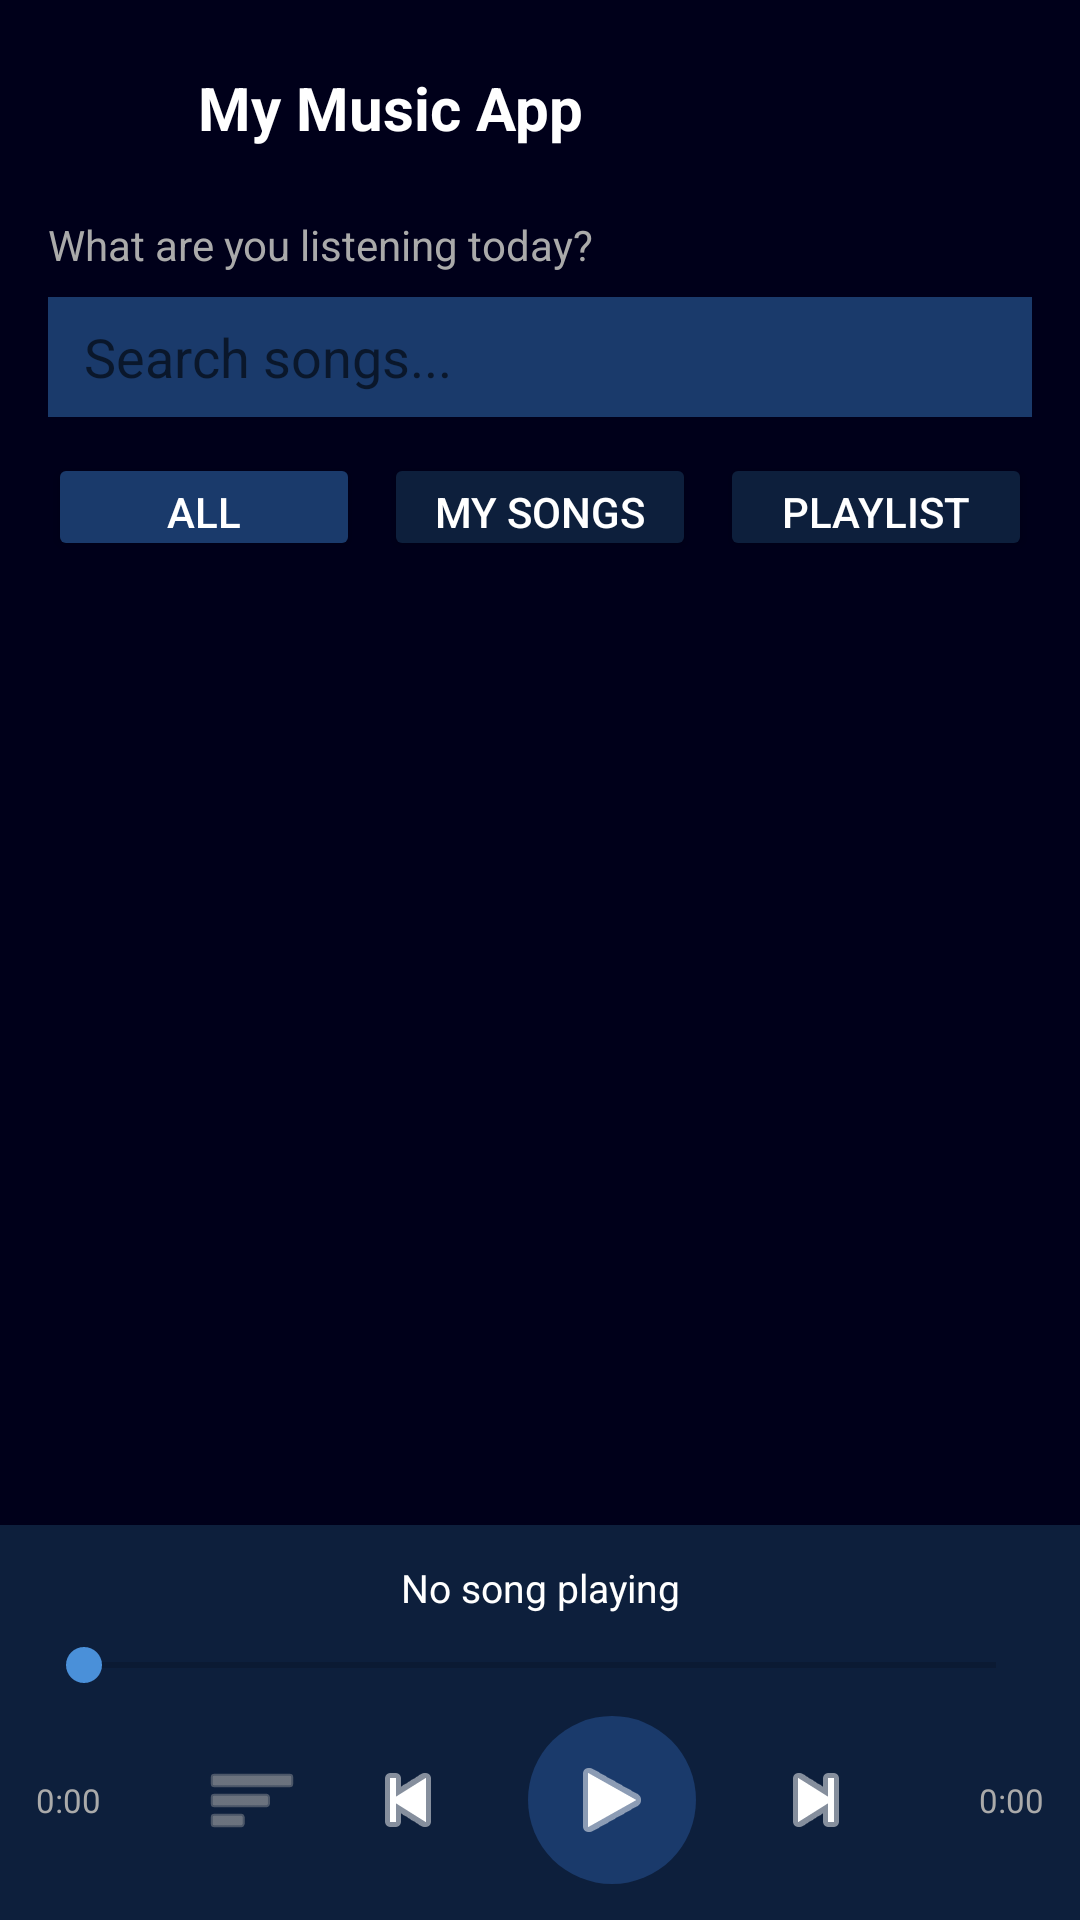

Where to tap for icons on this 1080w x 1920h app screen, as (x,y):
next: (816,1800)
previous: (408,1800)
sort by size: (252,1800)
